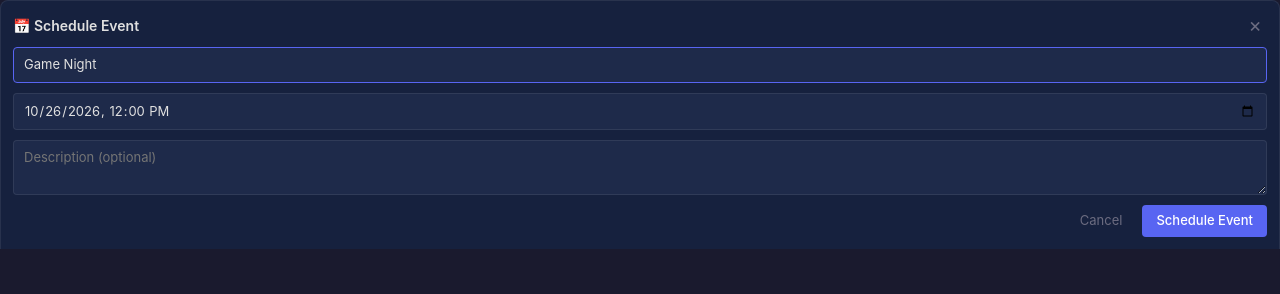
EventForm › shows error on API failure
Click the button "Schedule Event" at (1205, 221), box [1142,205,1267,236]
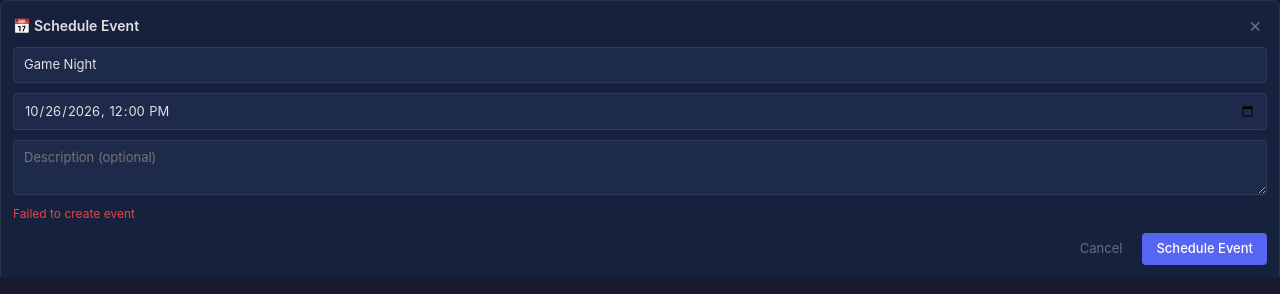
Expected: the text "Failed to create event" is shown, [13,206,135,221]
